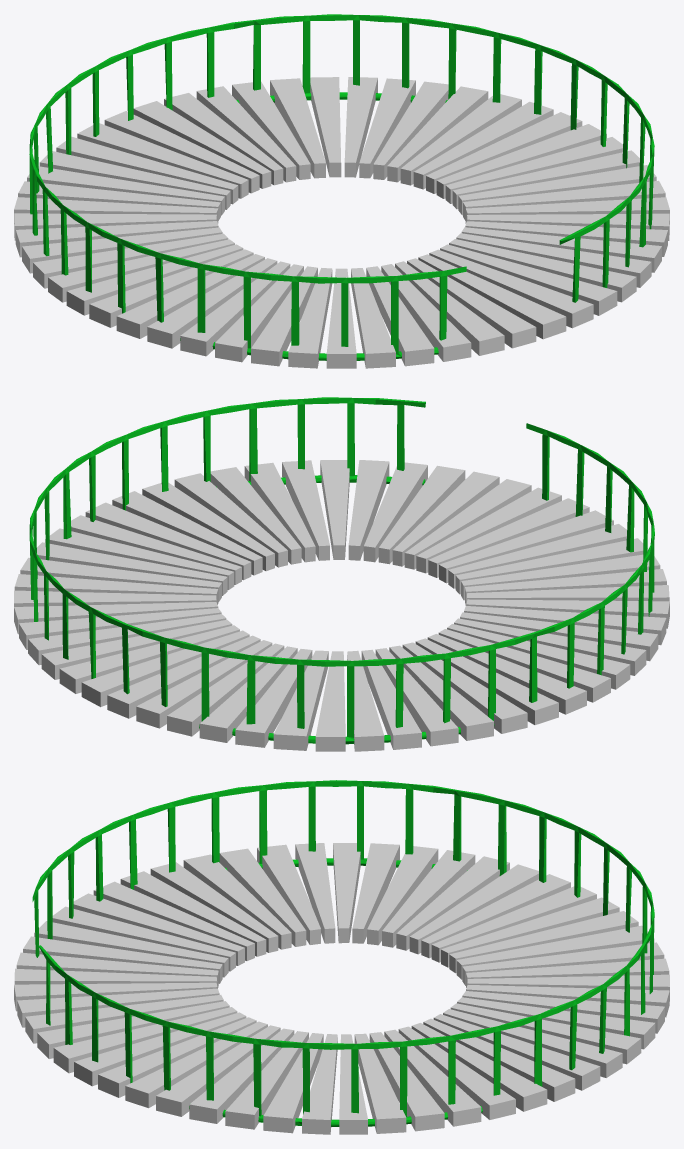
Rendered from j_platforma_domek.fbx.
The picture shows the model from 3 angles, top to bottom: view 1: azimuth 30°, elevation 25°; view 2: azimuth 150°, elevation 25°; view 3: azimuth 270°, elevation 25°; orthographic projection.
Visible parts, largest first — view 1: spiecie.001; view 2: spiecie.001; view 3: spiecie.001.
Part boxes in pixels (left/top/right/bottom): spiecie.001: left=14, top=14, right=669, bottom=368; spiecie.001: left=14, top=397, right=669, bottom=751; spiecie.001: left=14, top=780, right=669, bottom=1134.
Bounding box in the file's own units: 600 × 85.08 × 600.
